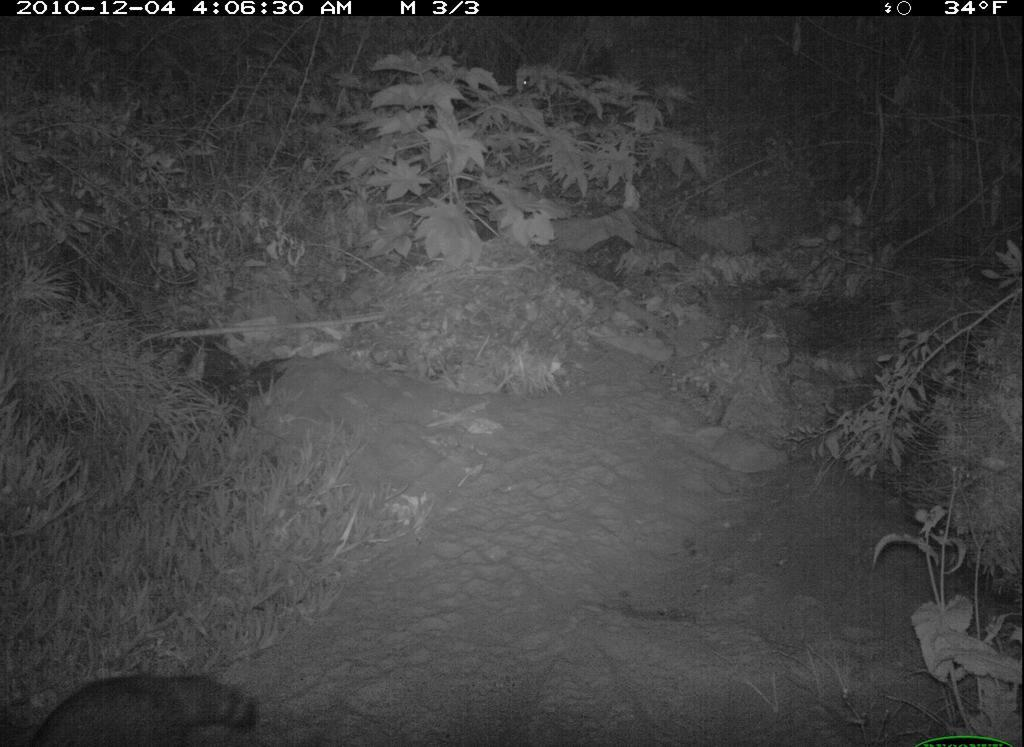raccoon: (30, 669, 265, 747)
